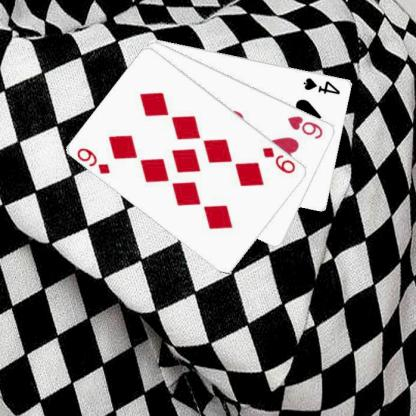4S: (301, 74, 341, 96)
6H: (285, 113, 325, 140)
9D: (260, 144, 297, 175), (75, 145, 112, 176)
